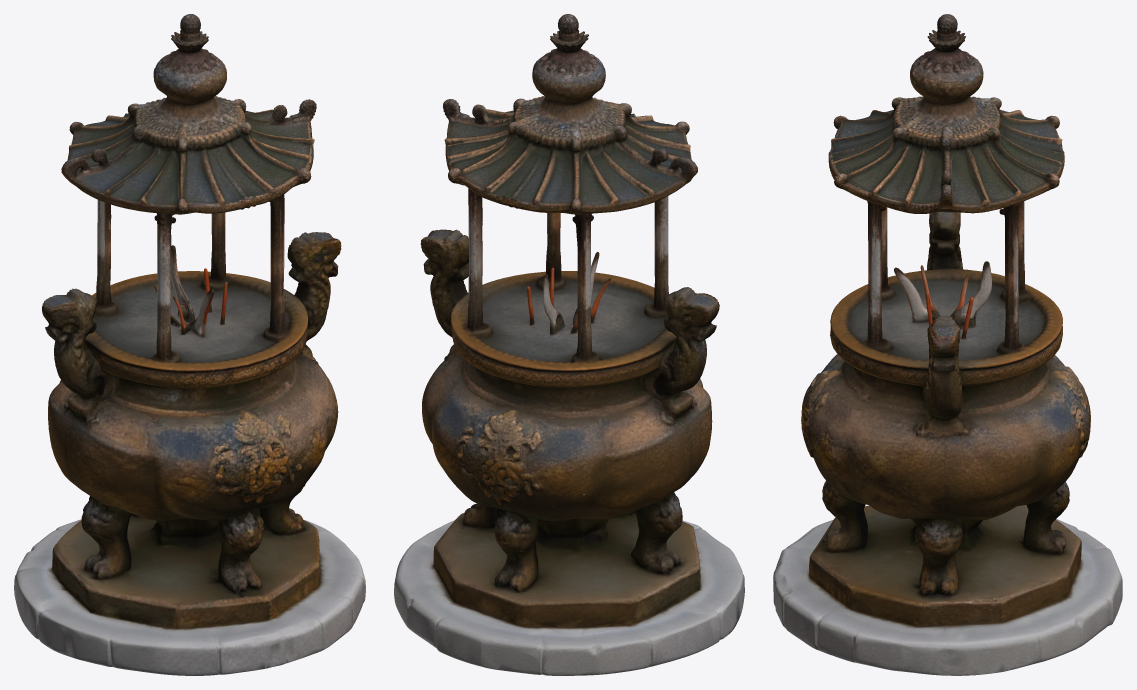
File: Incense-Burner-v2.glb
3 renders of one model, left to right at view 1: azimuth 30°, elevation 25°; view 2: azimuth 150°, elevation 25°; view 3: azimuth 270°, elevation 25°, orthographic.
Parts seen in each view (by area): view 1: tripo_node_d70117ed-9666-436b-b07b-8aa77afa6e20; view 2: tripo_node_d70117ed-9666-436b-b07b-8aa77afa6e20; view 3: tripo_node_d70117ed-9666-436b-b07b-8aa77afa6e20.
Part boxes in pixels (x1,y1,x2,y2): tripo_node_d70117ed-9666-436b-b07b-8aa77afa6e20: (14, 14, 365, 675); tripo_node_d70117ed-9666-436b-b07b-8aa77afa6e20: (394, 14, 744, 675); tripo_node_d70117ed-9666-436b-b07b-8aa77afa6e20: (773, 14, 1122, 675).
Bounding box in the file's own units: 0.5275 × 0.9786 × 0.5264.
1 material, 1 textured.
